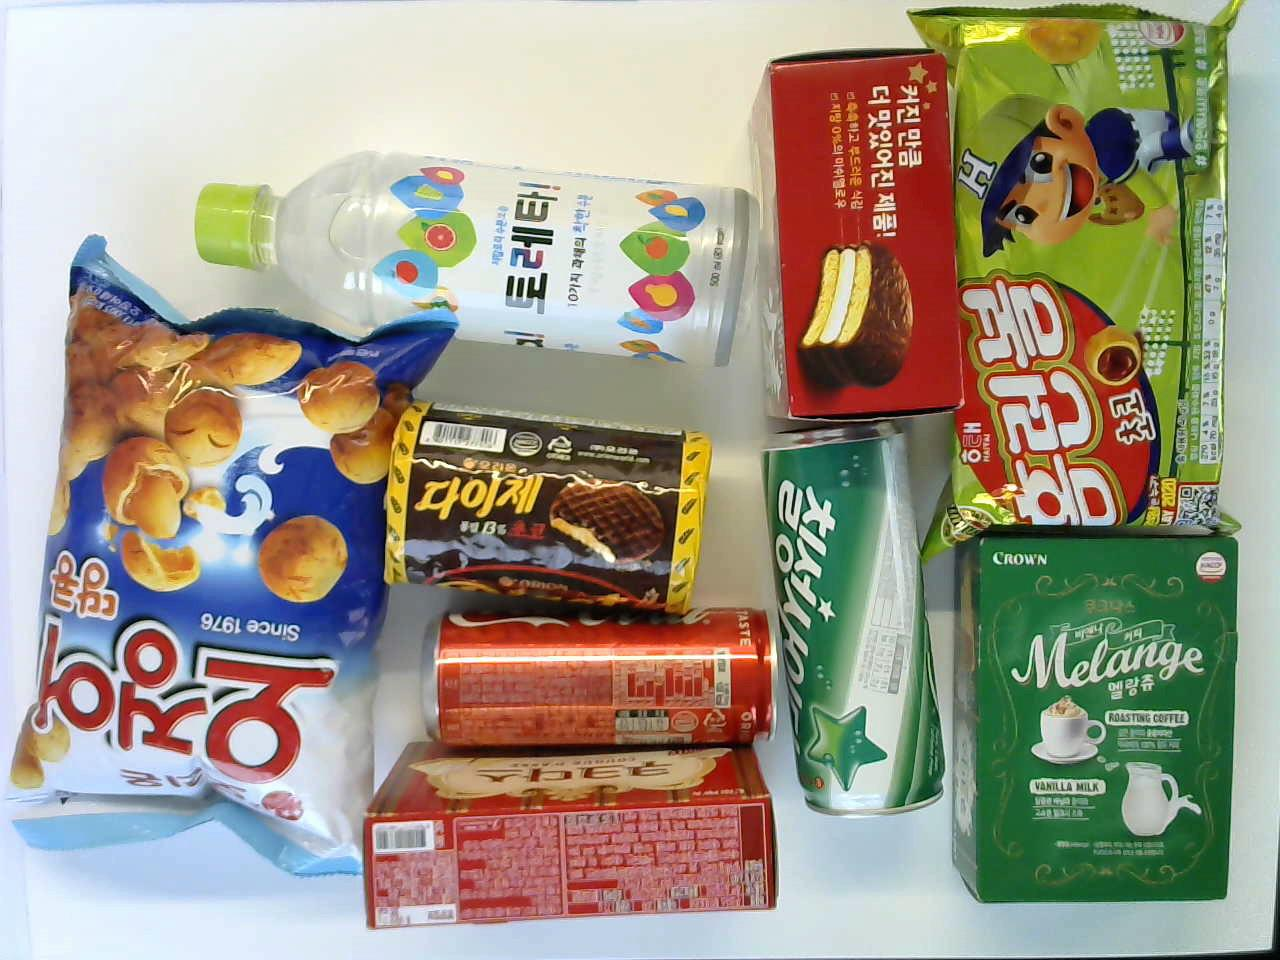chocopie: (741, 46, 966, 421)
cidar: (756, 427, 947, 813)
coke: (419, 610, 769, 749)
couque_coffee: (952, 535, 1229, 897)
couque_white: (362, 744, 773, 927)
diget_choco: (375, 403, 716, 609)
homerunball: (903, 8, 1246, 529)
squid_peanut: (5, 231, 451, 870)
toreta: (193, 148, 753, 380)
